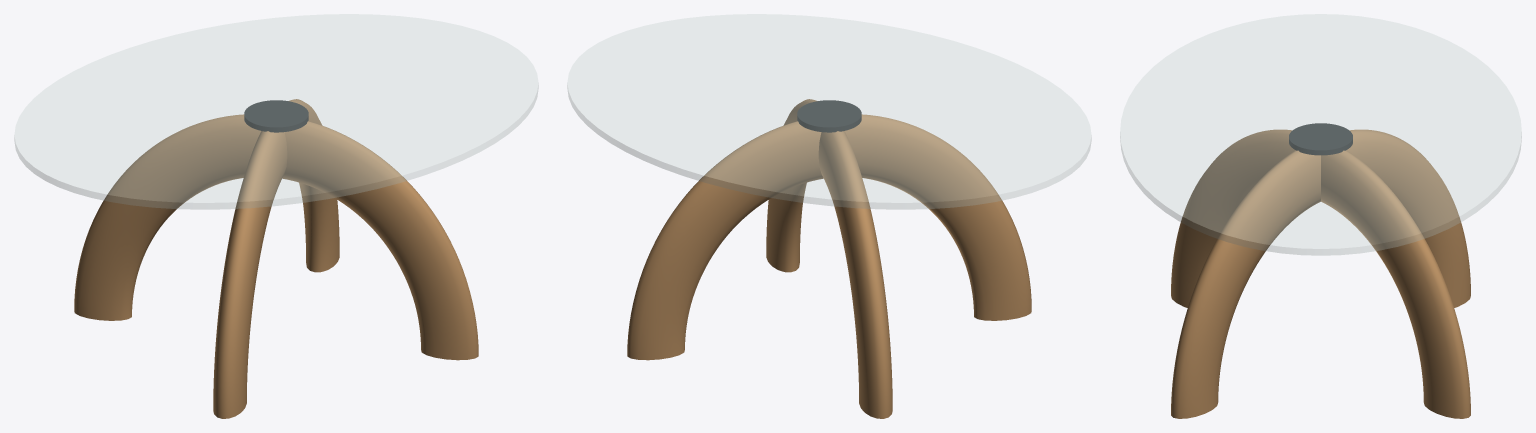
The model's file is coffeeTable-4.glb.
3 renders of one model, left to right at view 1: azimuth 30°, elevation 25°; view 2: azimuth 150°, elevation 25°; view 3: azimuth 270°, elevation 25°, orthographic.
Parts seen in each view (by area): view 1: coffeeTable:4:archviz; view 2: coffeeTable:4:archviz; view 3: coffeeTable:4:archviz.
Part boxes in pixels (bbox=[...]): coffeeTable:4:archviz: bbox=[14, 14, 538, 418]; coffeeTable:4:archviz: bbox=[567, 14, 1091, 418]; coffeeTable:4:archviz: bbox=[1120, 14, 1521, 418].
Bounding box in the file's own units: 0.9 × 0.4 × 0.65.
